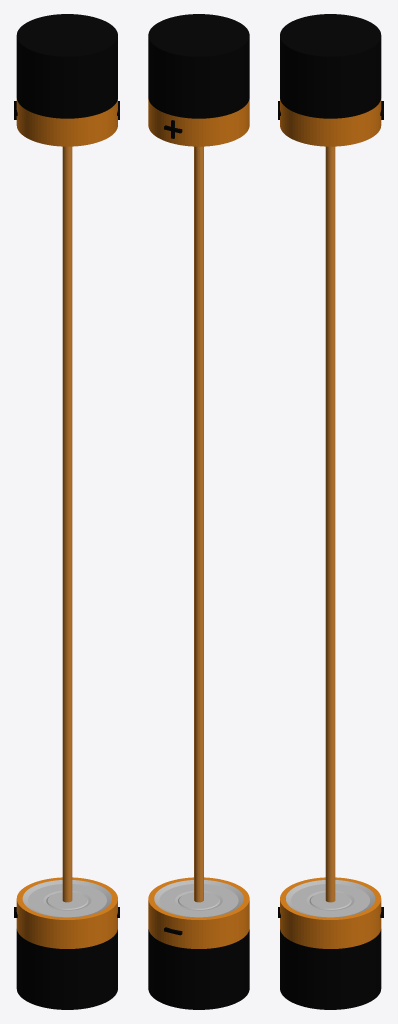
File: baetyCable.dae
3 renders of one model, left to right at view 1: azimuth 90°, elevation 25°; view 2: azimuth 150°, elevation 25°; view 3: azimuth 270°, elevation 25°, orthographic.
Visible parts, largest first — view 1: Cylinder.001, Cylinder, Cylinder.002; view 2: Cylinder.001, Cylinder, Cylinder.002, Cylinder.003; view 3: Cylinder.001, Cylinder, Cylinder.003.
Part boxes in pixels (box(x1,y1,x2,y2)): Cylinder.001: box(14, 14, 119, 146); Cylinder: box(14, 877, 119, 1009); Cylinder.002: box(62, 146, 72, 902); Cylinder.001: box(148, 14, 249, 146); Cylinder: box(148, 877, 249, 1009); Cylinder.002: box(196, 146, 203, 902); Cylinder.003: box(194, 146, 196, 901); Cylinder.001: box(278, 14, 383, 146); Cylinder: box(278, 877, 383, 1009); Cylinder.003: box(325, 146, 335, 902).
Size of the model in its own units: 0.5 by 0.5221 by 5.19.
